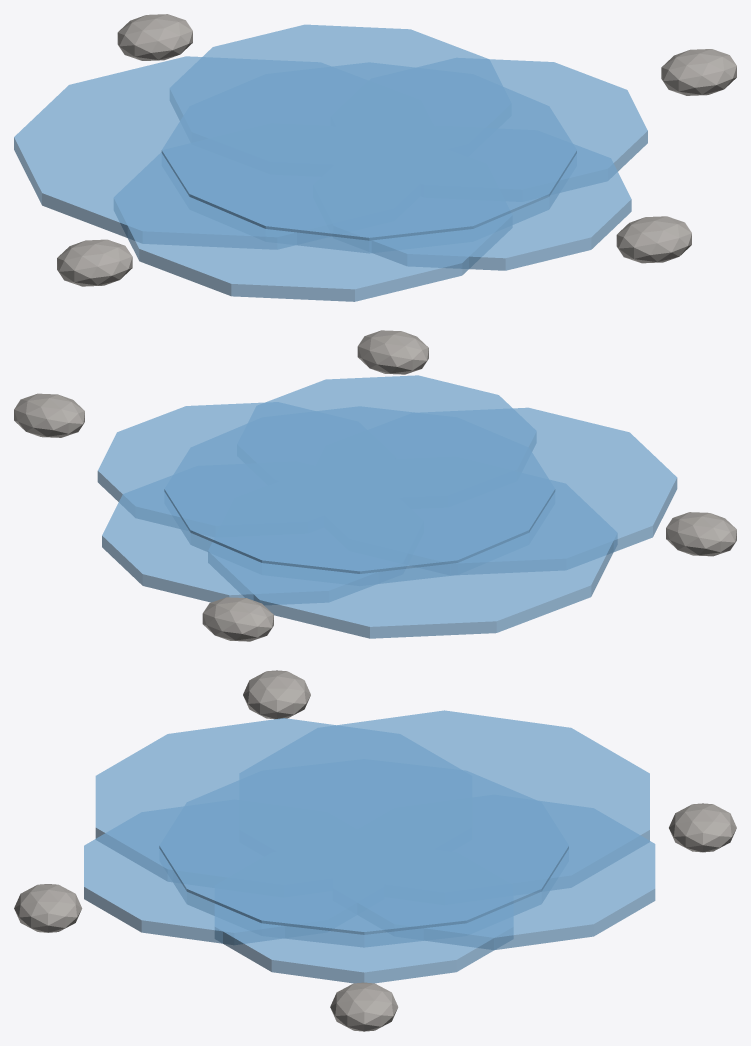
Rendered from pfuetze.glb.
3 views of the same model, one above another, from view 1: azimuth 30°, elevation 25°; view 2: azimuth 150°, elevation 25°; view 3: azimuth 270°, elevation 25° (orthographic). The views are drawn at different scales.
Visible parts, largest first — view 1: wasser_5, wasser_3, wasser_2, wasser_1, wasser_0, wasser_4, stein_6, stein_7, stein_8, stein_9; view 2: wasser_5, wasser_2, wasser_3, wasser_1, wasser_0, wasser_4, stein_7, stein_9, stein_6, stein_8; view 3: wasser_5, wasser_2, wasser_1, wasser_0, wasser_3, wasser_4, stein_6, stein_9, stein_7, stein_8.
Part boxes in pixels (x1,y1,x2,y2): wasser_5: (161,62,576,252); wasser_3: (113,139,512,301); wasser_2: (14,56,432,248); wasser_1: (169,24,502,165); wasser_0: (331,57,647,192); wasser_4: (372,145,631,270); stein_6: (661,49,736,95); stein_7: (117,14,192,60); stein_8: (57,239,132,286); stein_9: (616,216,691,263); wasser_5: (164,406,555,583); wasser_2: (208,457,617,638); wasser_3: (363,407,677,574); wasser_1: (102,474,418,604); wasser_0: (97,402,395,528); wasser_4: (248,375,535,499); stein_7: (202,597,273,641); stein_9: (357,330,428,374); stein_6: (14,393,84,437); stein_8: (666,512,736,556); wasser_5: (159,759,568,946); wasser_2: (239,710,649,889); wasser_1: (333,795,655,949); wasser_0: (214,847,513,983); wasser_3: (95,718,471,881); wasser_4: (84,802,355,944); stein_6: (330,982,398,1031); stein_9: (14,884,82,932); stein_7: (669,803,736,852); stein_8: (243,670,310,719).
Bounding box in the file's own units: 1.2 × 0.06 × 1.06.
